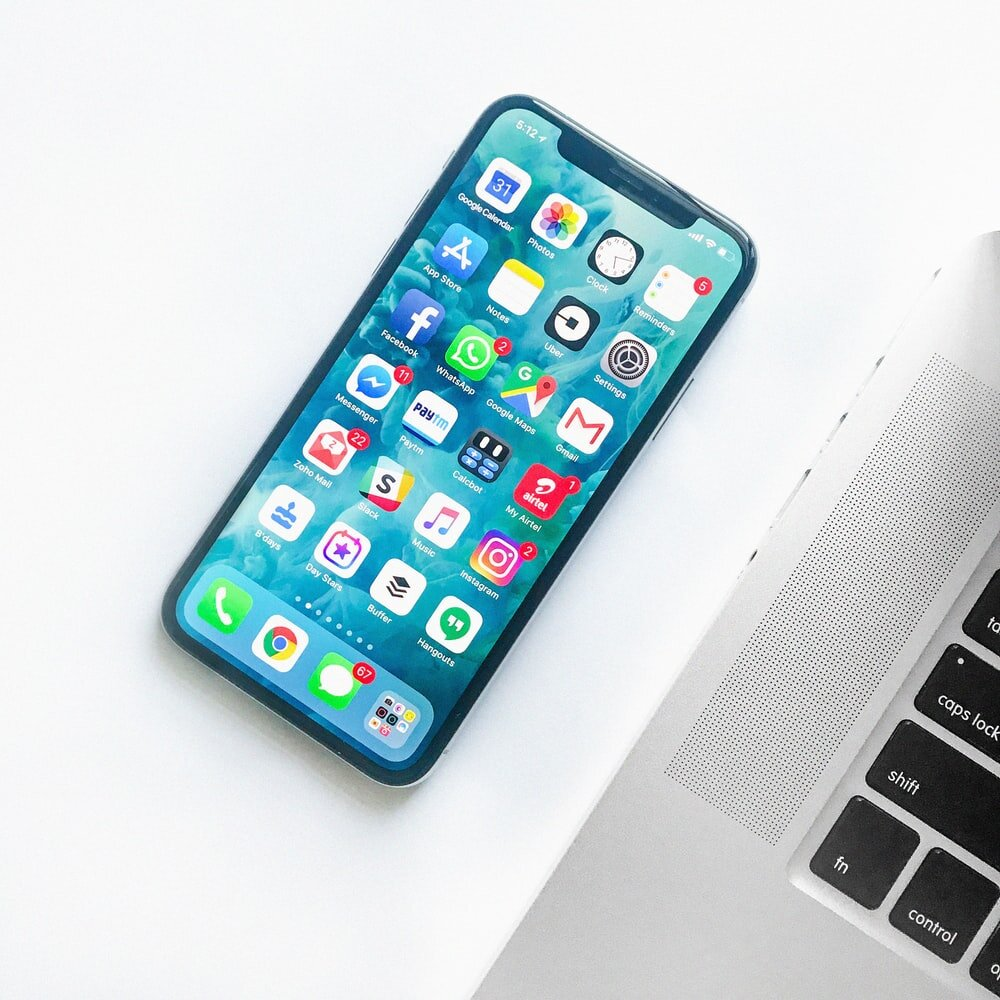phones: (146, 87, 761, 794)
